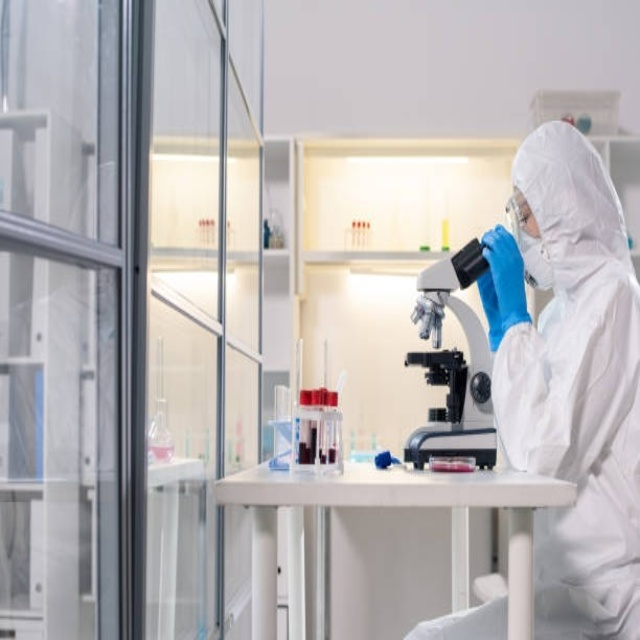Gafas: (504, 193, 531, 236)
Guantes: (477, 225, 530, 347)
Mascara: (513, 202, 553, 291)
